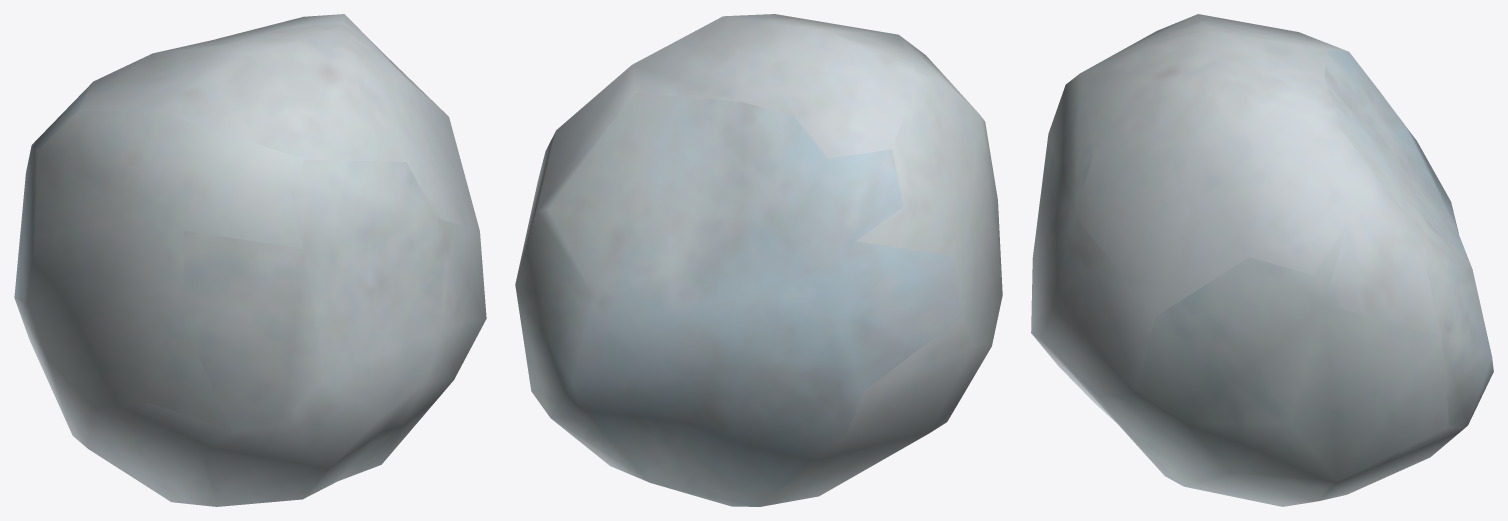
File: P_RockClassic11.obj
The picture shows the model from 3 angles, left to right: view 1: azimuth 30°, elevation 25°; view 2: azimuth 150°, elevation 25°; view 3: azimuth 270°, elevation 25°; orthographic projection. The views are drawn at different scales.
Bounding box in the file's own units: 2.63 × 2.69 × 2.64.
